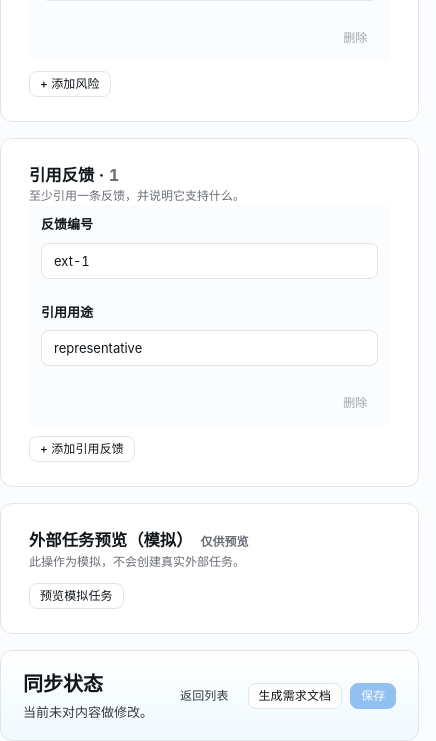
Test case: RequirementDetailPage — Phase 7 B2 › surfaces 404/409/503 errors with a friendly message + retry
(page scrolled)
Check: the element with test id "tool-action-preview" is shown, box [0,503,420,634]
Click the button with test id "tool-prepare".
click(76, 596)  # box [29,583,124,609]
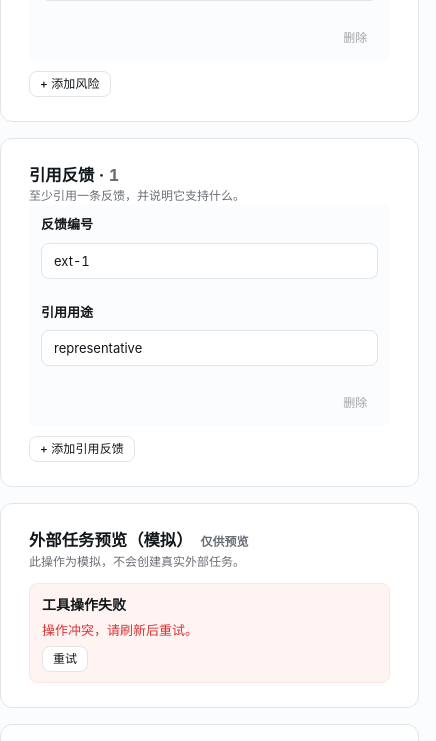
Check: the text "工具操作失败" is shown, box [42,594,126,615]
